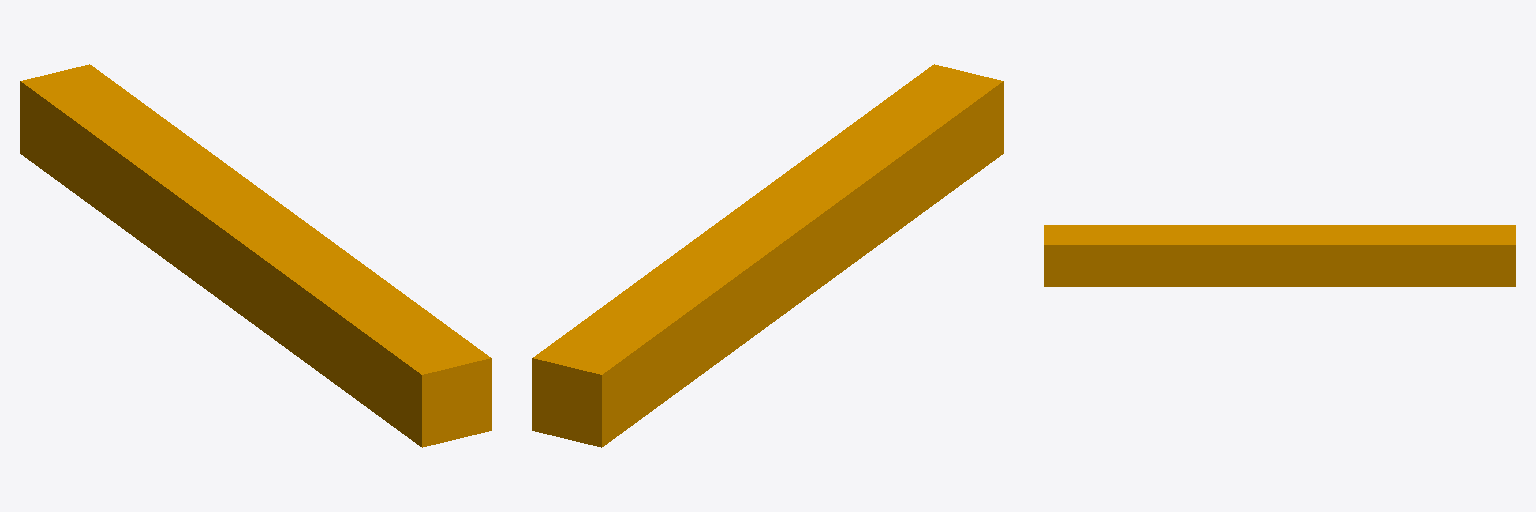
The robot description file, URDF, robot "simple_box":
<robot name="simple_box">
  <link name="my_box">
    <inertial>
      <origin xyz="2 0 0" /> 
      <mass value="10.0" />
      <inertia  ixx="1.0" ixy="0.0"  ixz="0.0"  iyy="100.0"  iyz="0.0"  izz="1.0" />
    </inertial>
    <visual>
      <origin xyz="2 0 0"/>
      <geometry>
        <box size="1 10 1" />
      </geometry>
    </visual>
    <collision>
      <origin xyz="2 0 0"/>
      <geometry>
        <box size="1 10 1" />
      </geometry>
    </collision>
  </link>
  <gazebo reference="my_box">
    <material>Gazebo/Blue</material>
  </gazebo>
</robot>

--- Render facts (derived) ---
The picture shows the robot from 3 angles, left to right: view 1: azimuth 30°, elevation 25°; view 2: azimuth 150°, elevation 25°; view 3: azimuth 270°, elevation 25°; orthographic projection.
Robot: simple_box — 1 links, 0 joints (none); root link my_box; default pose: all joints at 0.
Visible links, largest first — view 1: my_box; view 2: my_box; view 3: my_box.
Link boxes in pixels (box(x1,y1,x2,y2)): my_box: box(20, 64, 491, 447); my_box: box(532, 64, 1003, 447); my_box: box(1044, 225, 1515, 286).
Size in the robot's own frame: 1 by 10 by 1 metres.
Geometry: primitives only (box / cylinder / sphere), no mesh files.